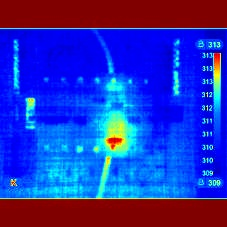High: (89, 109, 143, 160)
